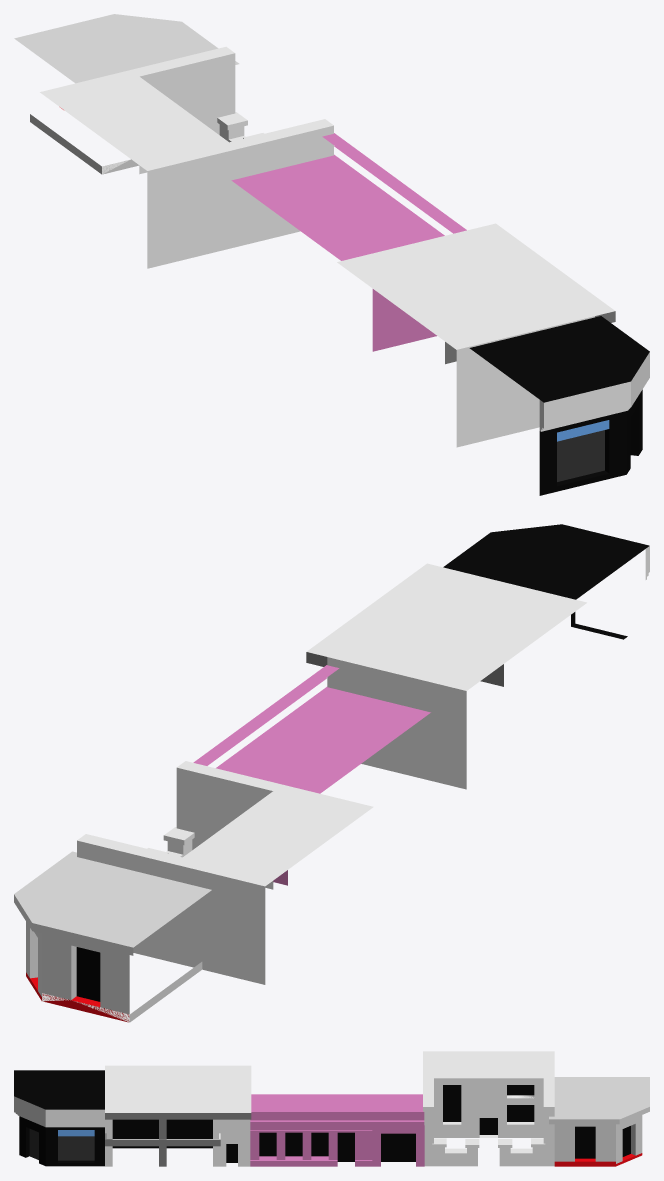
Rendered from Cuadra-1-Derecha.glb.
The picture shows the model from 3 angles, top to bottom: view 1: azimuth 30°, elevation 25°; view 2: azimuth 150°, elevation 25°; view 3: azimuth 270°, elevation 25°; orthographic projection. The views are drawn at different scales.
Visible parts, largest first — view 1: Plane2, Plane4, Plane5, Plane3, Plane; view 2: Plane4, Plane2, Plane, Plane3, Plane5; view 3: Plane2, Plane4, Plane3, Plane5, Plane.
Boxes of the visible parts, box(x1,y1,x2,y2) form: Plane2: box(40, 46, 333, 268); Plane4: box(337, 223, 615, 447); Plane5: box(469, 316, 649, 495); Plane3: box(231, 133, 466, 351); Plane: box(14, 14, 239, 174); Plane4: box(306, 563, 586, 789); Plane2: box(77, 761, 373, 984); Plane: box(14, 851, 211, 1022); Plane3: box(193, 665, 430, 885); Plane5: box(443, 524, 649, 639); Plane2: box(423, 1051, 554, 1166); Plane4: box(105, 1065, 251, 1166); Plane3: box(250, 1094, 424, 1166); Plane5: box(14, 1070, 106, 1166); Plane: box(549, 1077, 649, 1166).
Size of the model in its own units: 20.03 by 9.25 by 87.
